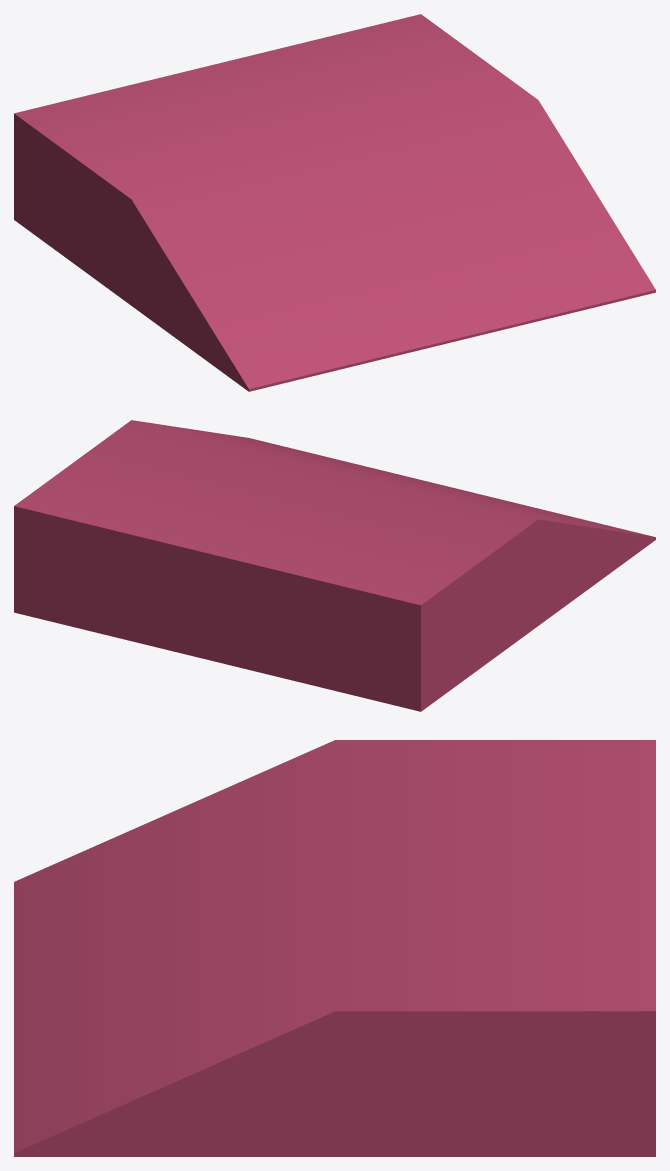
The model's file is uniformedTile-29_col.fbx.
3 views of the same model, one above another, from view 1: azimuth 30°, elevation 25°; view 2: azimuth 150°, elevation 25°; view 3: azimuth 270°, elevation 25° (orthographic). The views are drawn at different scales.
Visible parts, largest first — view 1: uniformedTile-29.col; view 2: uniformedTile-29.col; view 3: uniformedTile-29.col.
Part boxes in pixels (x1,y1,x2,y2): uniformedTile-29.col: (14,14,655,391); uniformedTile-29.col: (14,420,655,711); uniformedTile-29.col: (14,740,655,1156).
Bounding box in the file's own units: 2 × 0.5 × 2.
Materials: 1 (1 with a texture image).
